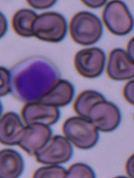L: (5, 55, 60, 104)
